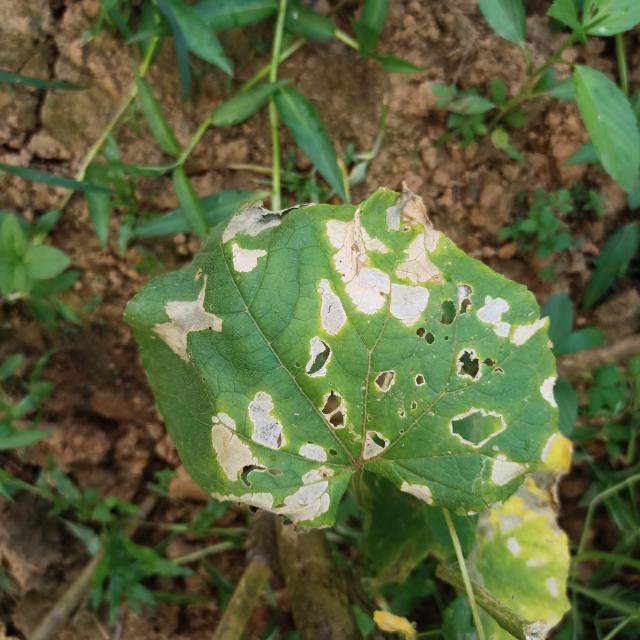disease_cucumber: (152, 224, 545, 509)
